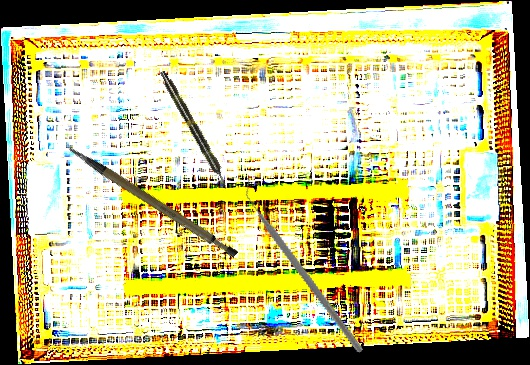Chopper: (203, 177, 407, 354)
Handpiece: (157, 68, 232, 192)
Scalpel Handle: (66, 120, 241, 279)
